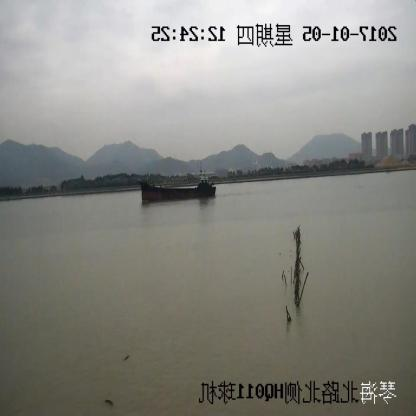Bulk Carrier: (140, 172, 218, 203)
